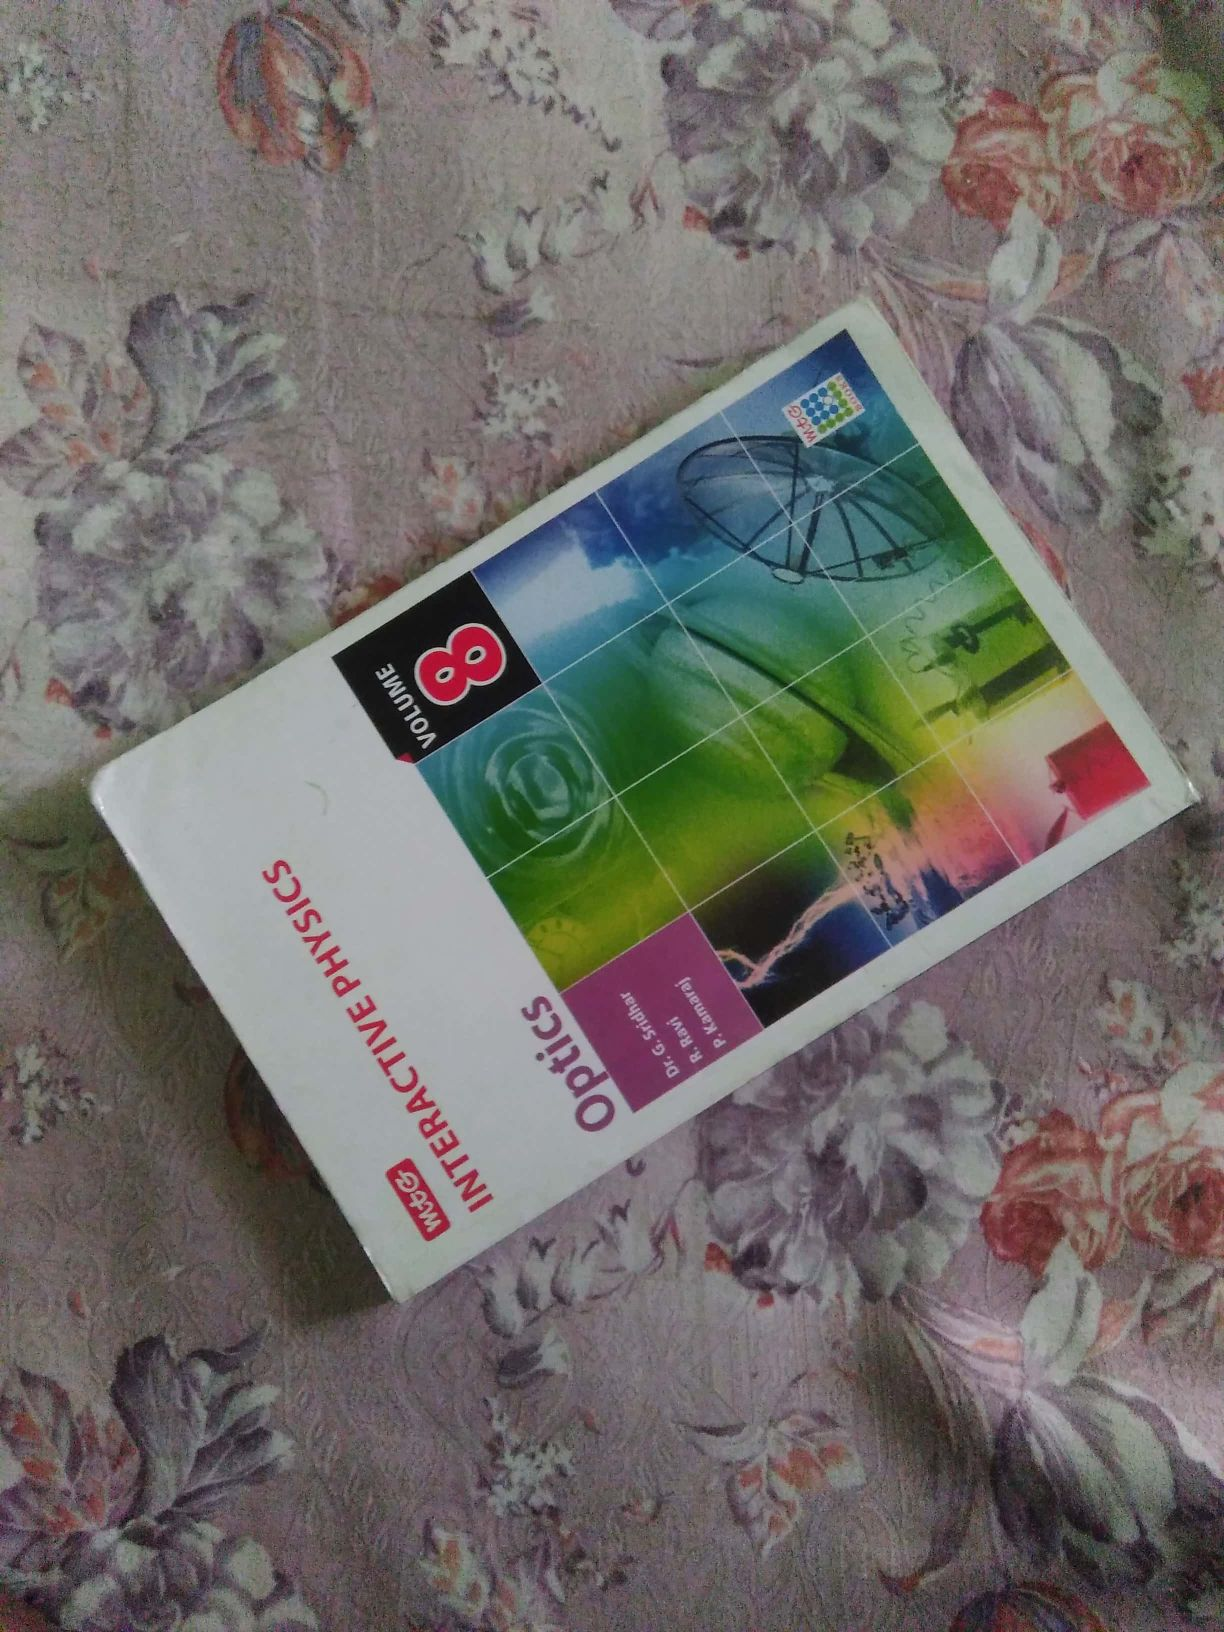optics: (134, 348, 1194, 1293)
